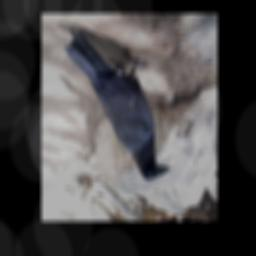Crow: (66, 26, 171, 182)
